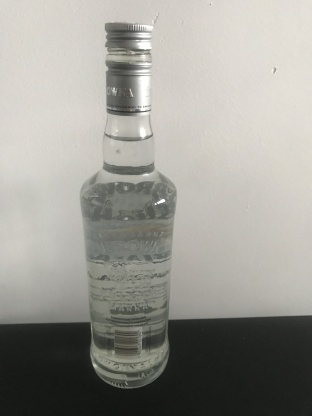nakretka: (103, 20, 154, 117)
